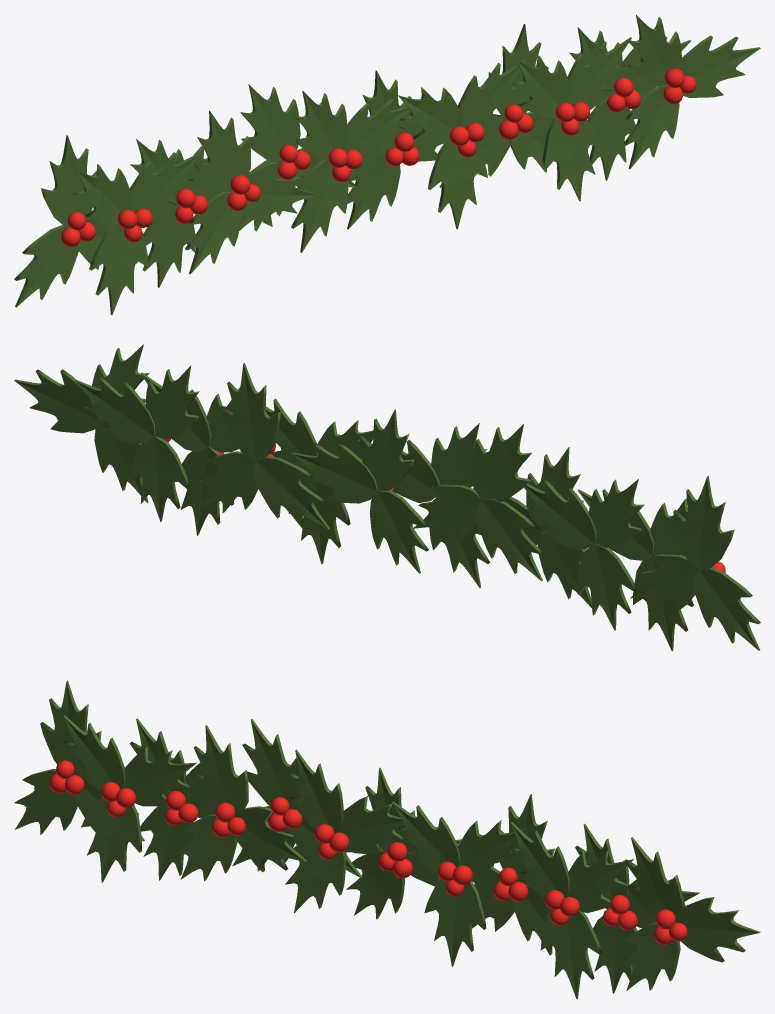
File: Christmas_decor.fbx
The picture shows the model from 3 angles, top to bottom: view 1: azimuth 30°, elevation 25°; view 2: azimuth 150°, elevation 25°; view 3: azimuth 330°, elevation 25°; orthographic projection.
Parts seen in each view (by area): view 1: Christmas_decor; view 2: Christmas_decor; view 3: Christmas_decor.
Part boxes in pixels (x1=…): Christmas_decor: x1=14, y1=15, x2=760, y2=314; Christmas_decor: x1=14, y1=344, x2=760, y2=651; Christmas_decor: x1=14, y1=680, x2=760, y2=999.
Bounding box in the file's own units: 1.8 × 0.4489 × 0.0691.
